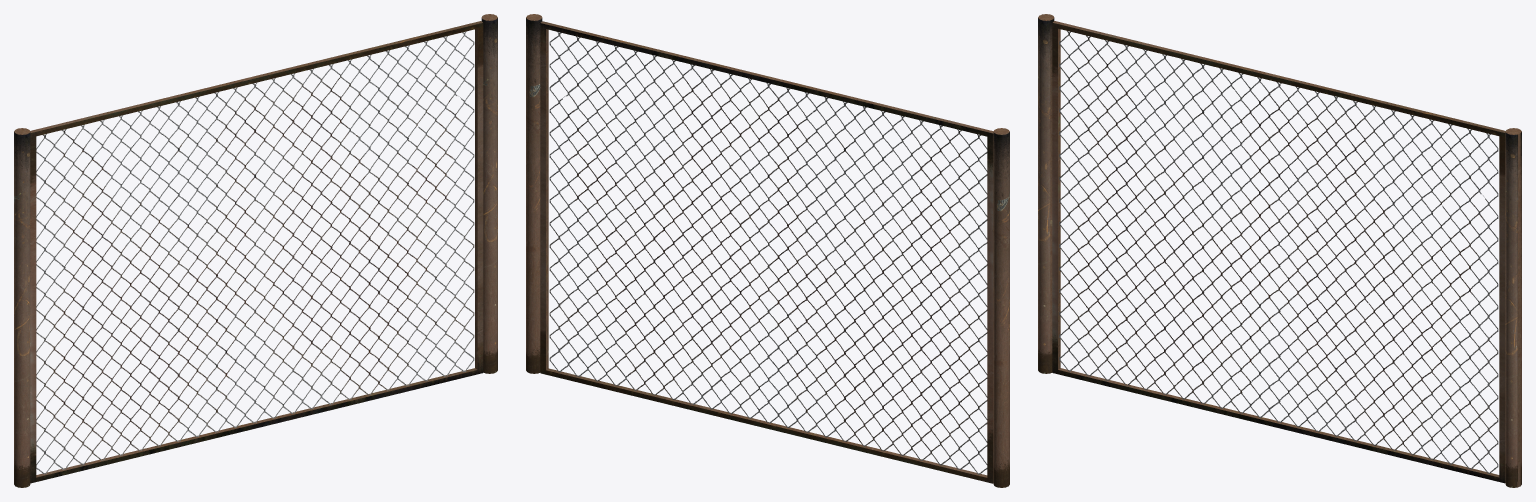
File: Fence.obj
3 views of the same model, side by side, from view 1: azimuth 30°, elevation 25°; view 2: azimuth 150°, elevation 25°; view 3: azimuth 330°, elevation 25° (orthographic).
Visible parts, largest first — view 1: Metal_Fence_2; view 2: Metal_Fence_2; view 3: Metal_Fence_2.
Part boxes in pixels (x1,y1,x2,y2): Metal_Fence_2: (14, 14, 497, 487); Metal_Fence_2: (526, 14, 1009, 487); Metal_Fence_2: (1038, 14, 1521, 487).
Size of the model in its own units: 81.25 by 56.91 by 2.39.
Materials: 1 (1 with a texture image).
